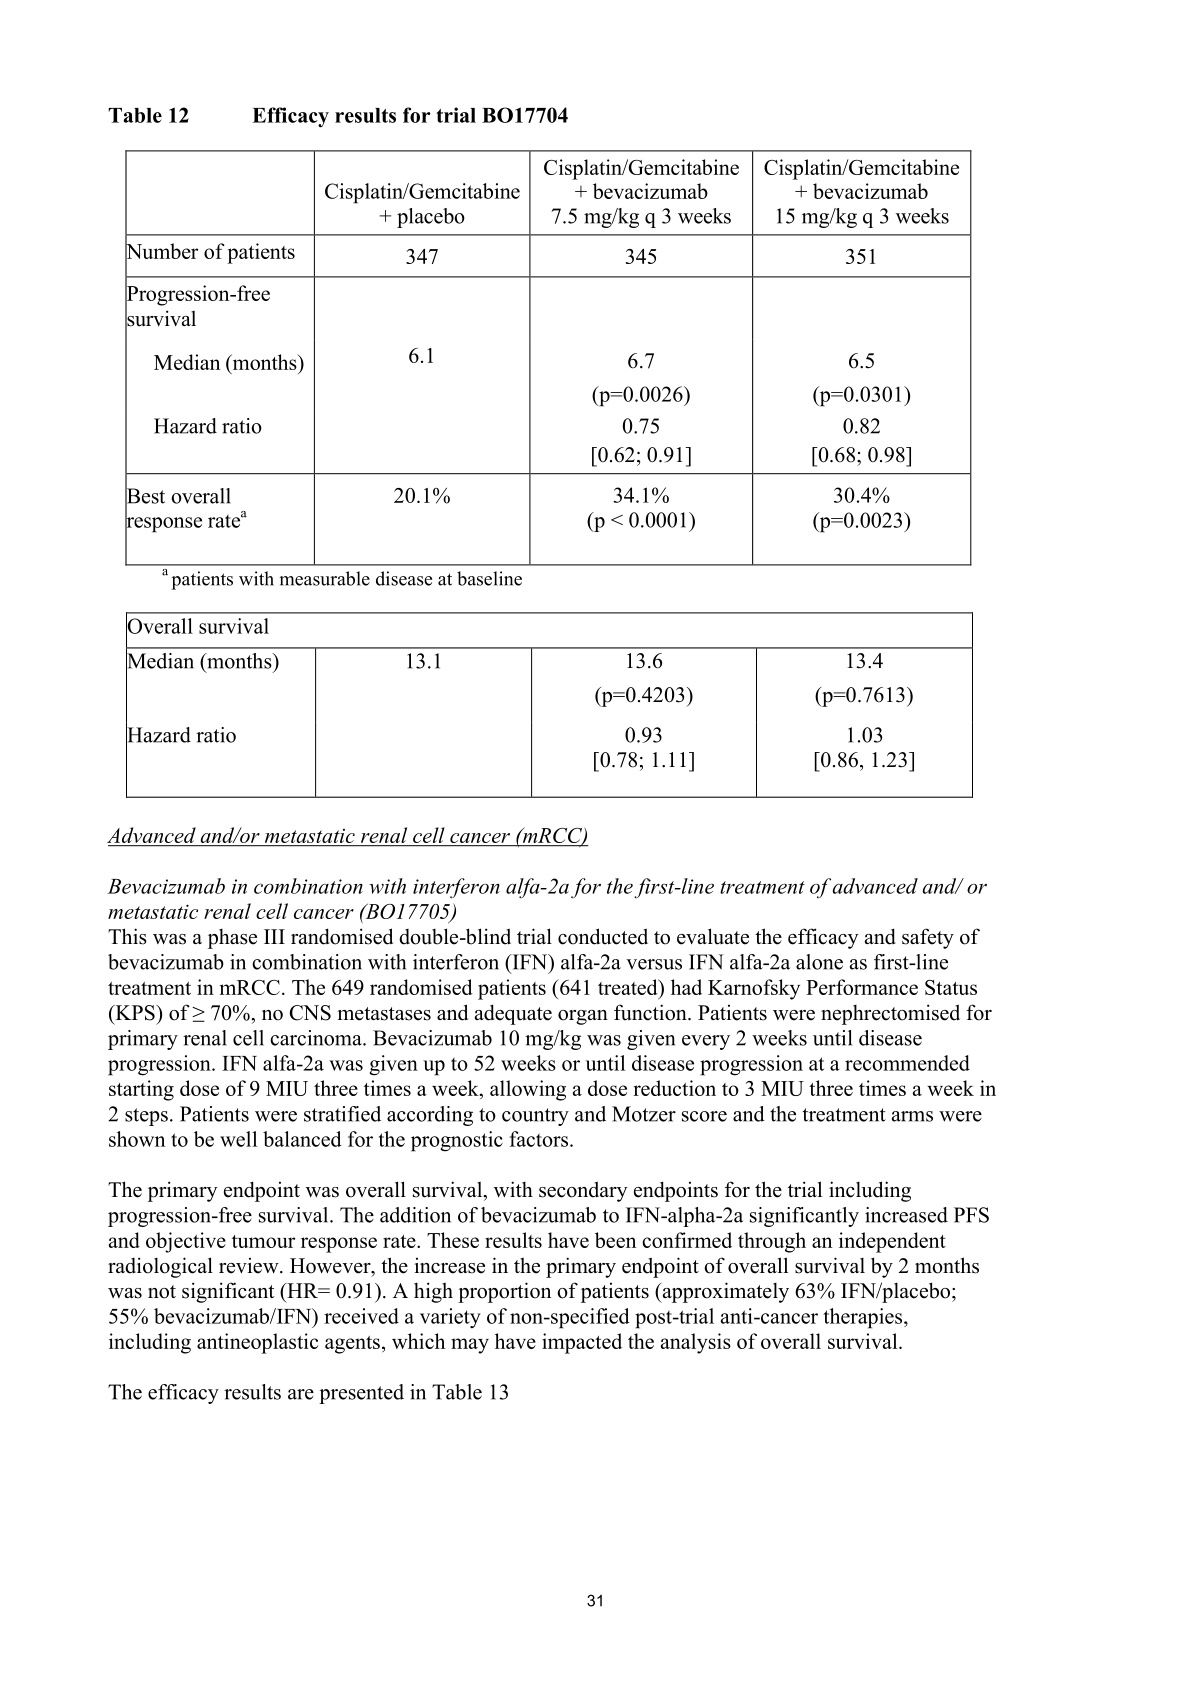full_lined: (124, 148, 971, 566)
merged_cells: (124, 609, 973, 798)
